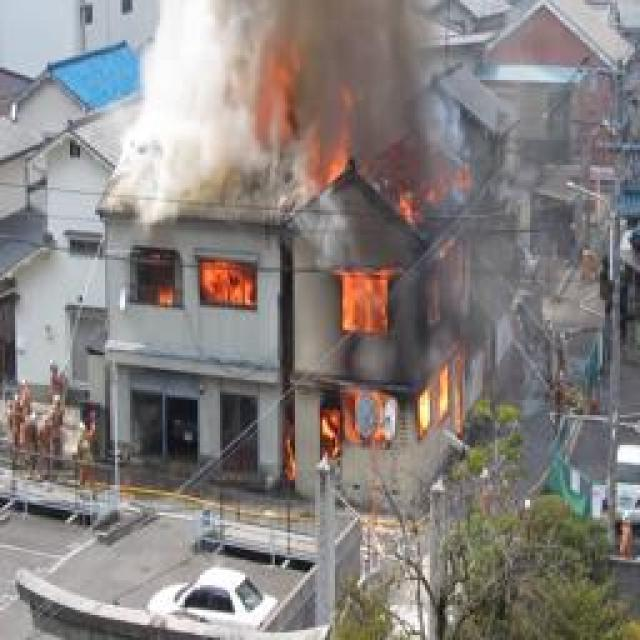Fire: (285, 172, 477, 506), (250, 74, 368, 168), (149, 264, 257, 313)
